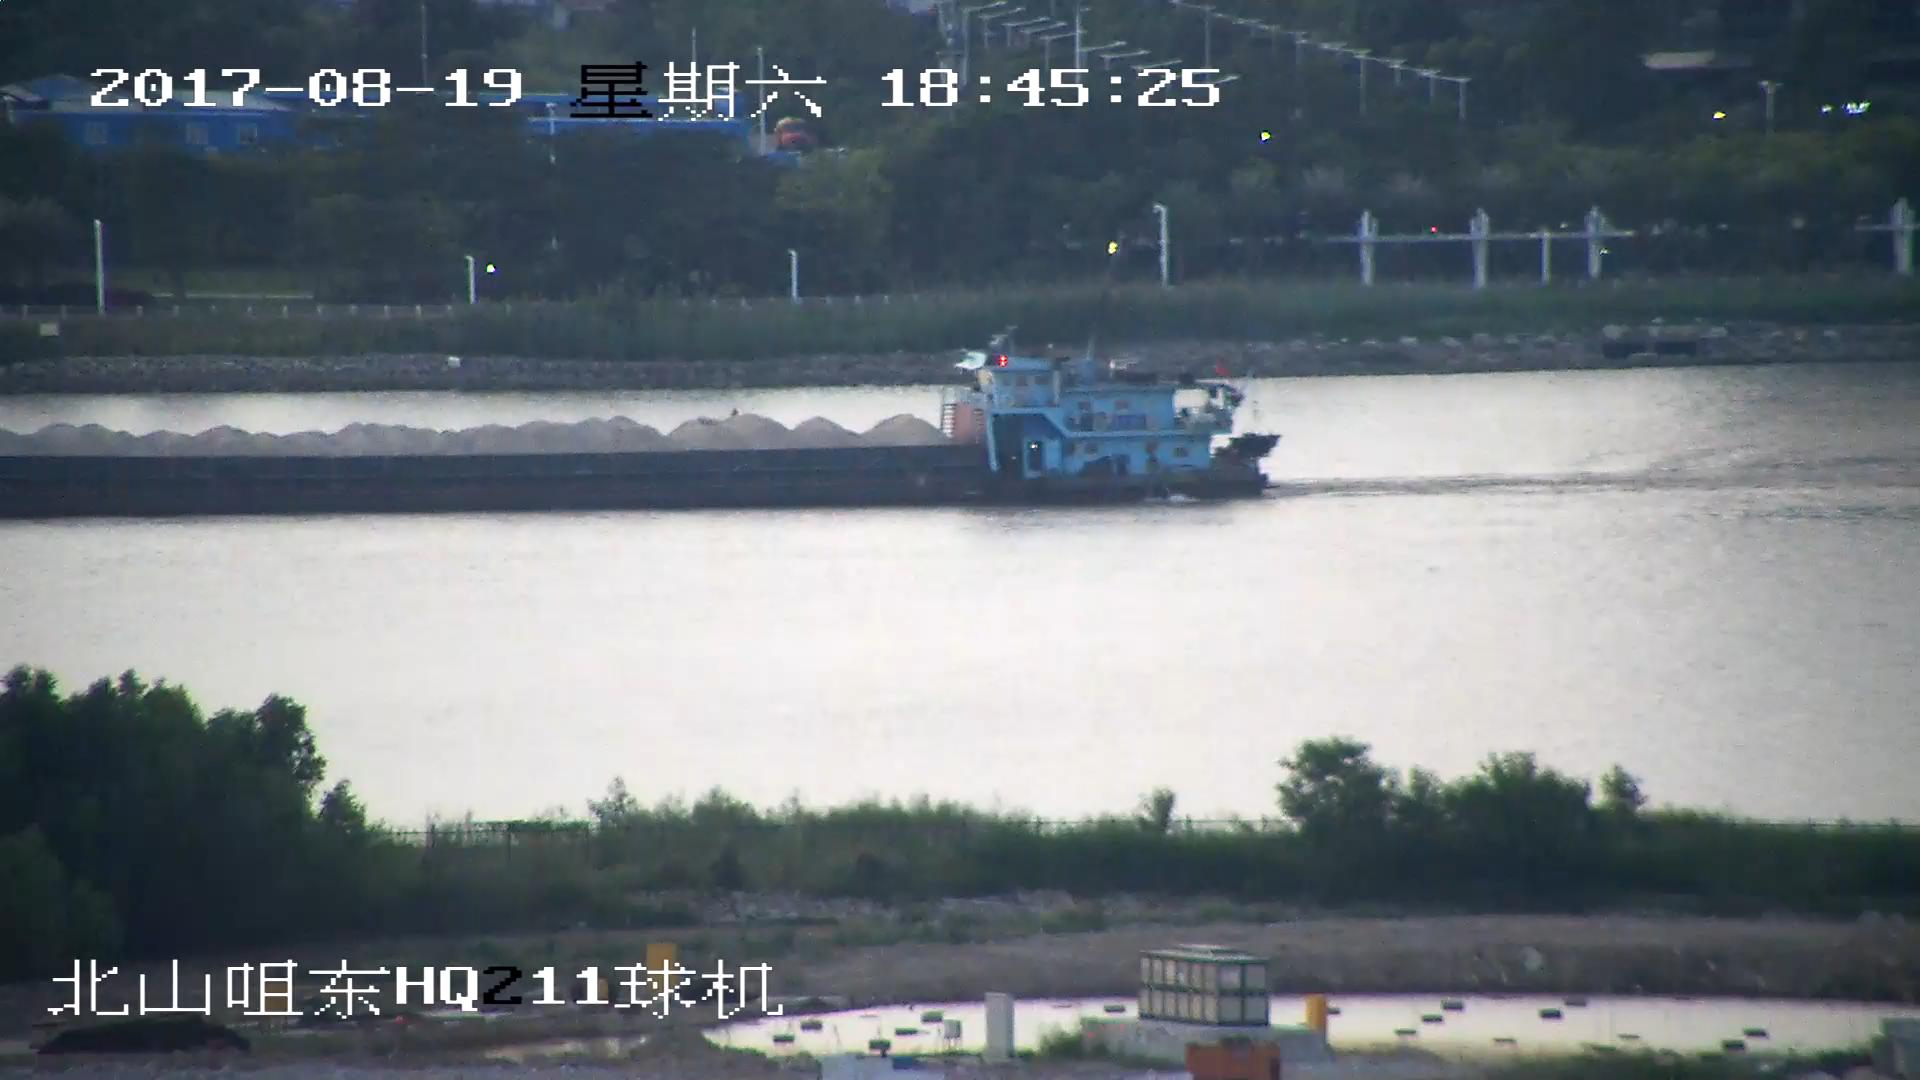ore carrier: (1, 329, 1282, 515)
